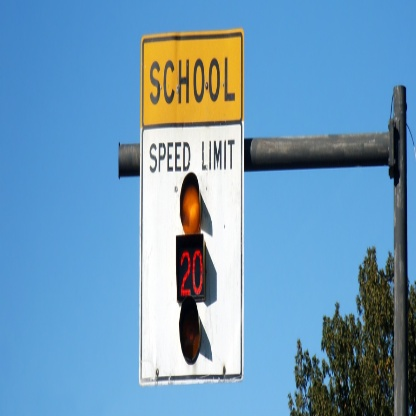limit1: (140, 128, 244, 384)
